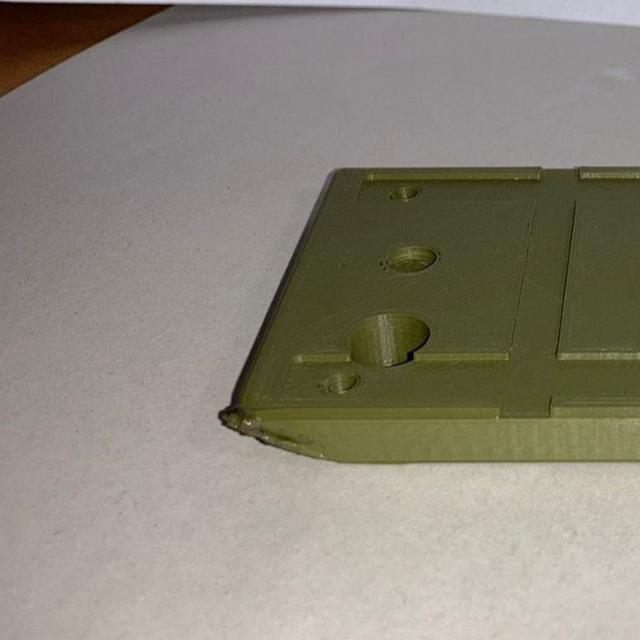Warping: (230, 414, 334, 466)
